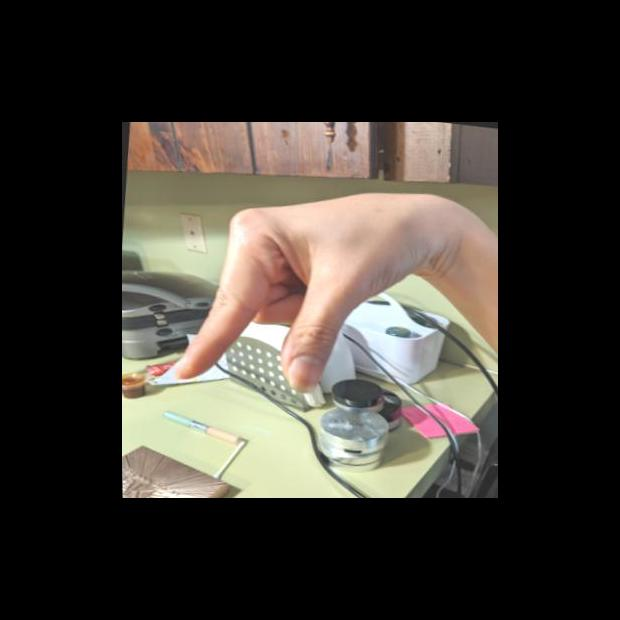P: (160, 157, 432, 410)
